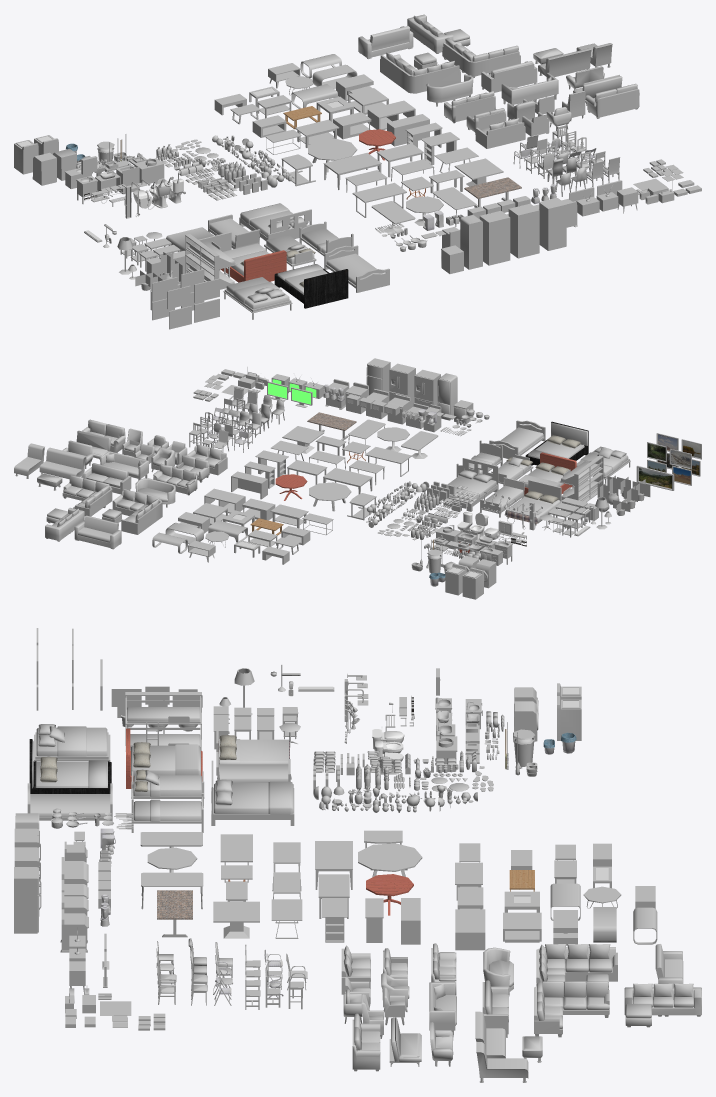
Rendered from All.fbx.
3 renders of one model, top to bottom at view 1: azimuth 30°, elevation 25°; view 2: azimuth 150°, elevation 25°; view 3: azimuth 270°, elevation 25°, orthographic. The views are drawn at different scales.
Parts seen in each view (by area): view 1: Bed_01, Armchair_18, Bed_05, Bed, Armchair_17, Bed_06, Bed_07, Refrigerator_01, Refrigerator_02, Refrigerator, Bed_02, Armchair (+46 smaller); view 2: Armchair_18, Bed_06, Armchair_17, Bed_01, Bed_07, Bed, Armchair_22, Bed_09, Armchair_13, Bed_05, Bed_08, Armchair_15 (+41 smaller); view 3: Armchair_17, Bed_06, Bed_07, Armchair_18, Bed_01, Armchair_20, Bed_02, Bed_05, Bed, Bed_03, Refrigerator, Bed_09 (+37 smaller).
Part boxes in pixels (<box>): Bed_01: <box>274,264,348,308</box>; Armchair_18: <box>380,52,460,93</box>; Bed_05: <box>220,243,286,282</box>; Bed: <box>324,245,389,292</box>; Armchair_17: <box>442,37,520,77</box>; Bed_06: <box>185,234,237,289</box>; Bed_07: <box>239,203,311,240</box>; Refrigerator_01: <box>509,204,539,258</box>; Refrigerator_02: <box>480,211,510,265</box>; Refrigerator: <box>539,198,566,250</box>; Bed_02: <box>223,277,292,319</box>; Armchair: <box>585,83,639,118</box>; Armchair_18: <box>112,489,162,534</box>; Bed_06: <box>559,455,603,502</box>; Armchair_17: <box>62,475,112,516</box>; Bed_01: <box>525,421,588,465</box>; Bed_07: <box>439,458,498,511</box>; Bed: <box>489,420,545,458</box>; Armchair_22: <box>74,515,121,549</box>; Bed_09: <box>504,479,561,525</box>; Armchair_13: <box>39,447,85,479</box>; Bed_05: <box>519,452,576,494</box>; Bed_08: <box>479,477,524,517</box>; Armchair_15: <box>83,463,131,494</box>; Armchair_17: <box>534,981,609,1037</box>; Bed_06: <box>125,692,201,751</box>; Bed_07: <box>211,760,294,825</box>; Armchair_18: <box>536,944,617,986</box>; Bed_01: <box>29,739,111,793</box>; Armchair_20: <box>624,983,701,1016</box>; Bed_02: <box>34,726,110,761</box>; Bed_05: <box>126,728,202,788</box>; Bed: <box>27,783,112,820</box>; Bed_03: <box>131,783,203,832</box>; Refrigerator: <box>14,867,41,933</box>; Bed_09: <box>216,719,289,775</box>.
Size of the model in its own units: 3190 by 265 by 2367.
